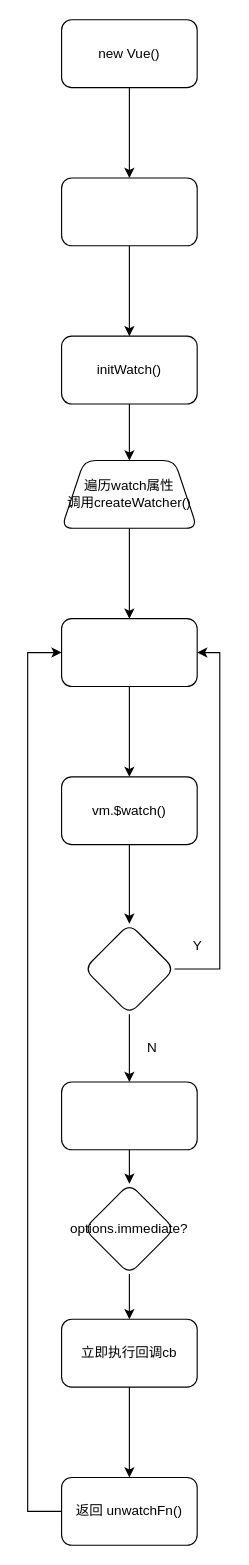
Image size: 249x1565. Some labels were removed from this diagram. The centre of each missing label's shape, as x and y in pixels:
createWatcher() 创建 watcher: [128,652]
initState(): [128,211]
new Watcher() 创建 watcher: [128,1115]
回调cb是对象？: [129,968]
